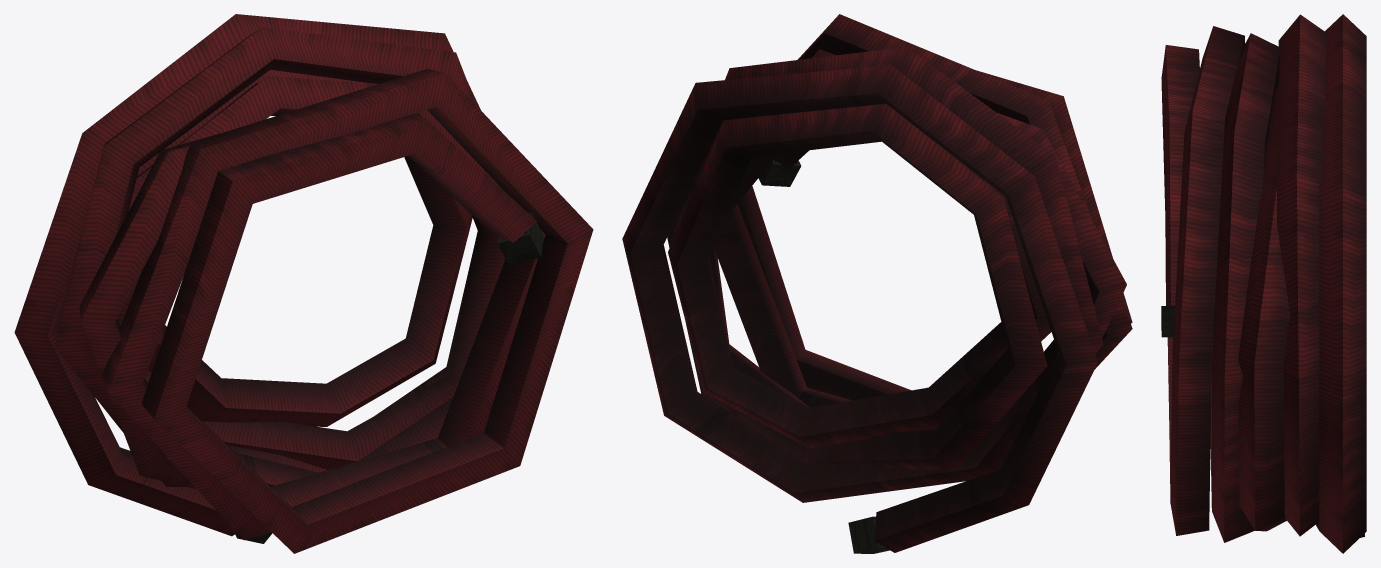
Rendered from p6_industrial_tubing_01_LOD2.obj.
3 renders of one model, left to right at view 1: azimuth 30°, elevation 25°; view 2: azimuth 150°, elevation 25°; view 3: azimuth 270°, elevation 25°, orthographic. The views are drawn at different scales.
Parts seen in each view (by area): view 1: mtl_p6_industrial_tubing_02, mtl_p6_industrial_tubing_01; view 2: mtl_p6_industrial_tubing_02, mtl_p6_industrial_tubing_01; view 3: mtl_p6_industrial_tubing_02, mtl_p6_industrial_tubing_01.
Boxes of the visible parts, box(x1,y1,x2,y2) form: mtl_p6_industrial_tubing_02: box(14, 14, 593, 553); mtl_p6_industrial_tubing_01: box(235, 212, 543, 543); mtl_p6_industrial_tubing_02: box(622, 14, 1132, 552); mtl_p6_industrial_tubing_01: box(758, 159, 889, 553); mtl_p6_industrial_tubing_02: box(1161, 14, 1366, 553); mtl_p6_industrial_tubing_01: box(1161, 305, 1364, 537).
Bounding box in the file's own units: 135 × 135 × 48.29.
